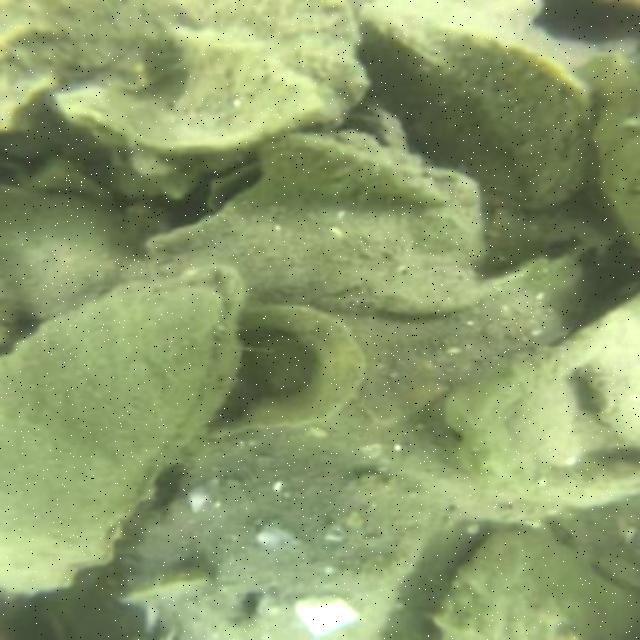Oyster-Closed: (4, 263, 247, 592), (136, 136, 484, 312), (120, 468, 452, 638), (359, 4, 586, 211), (189, 302, 370, 442), (438, 527, 638, 636), (254, 132, 452, 212), (8, 187, 120, 317), (596, 67, 638, 242), (582, 324, 635, 450)
